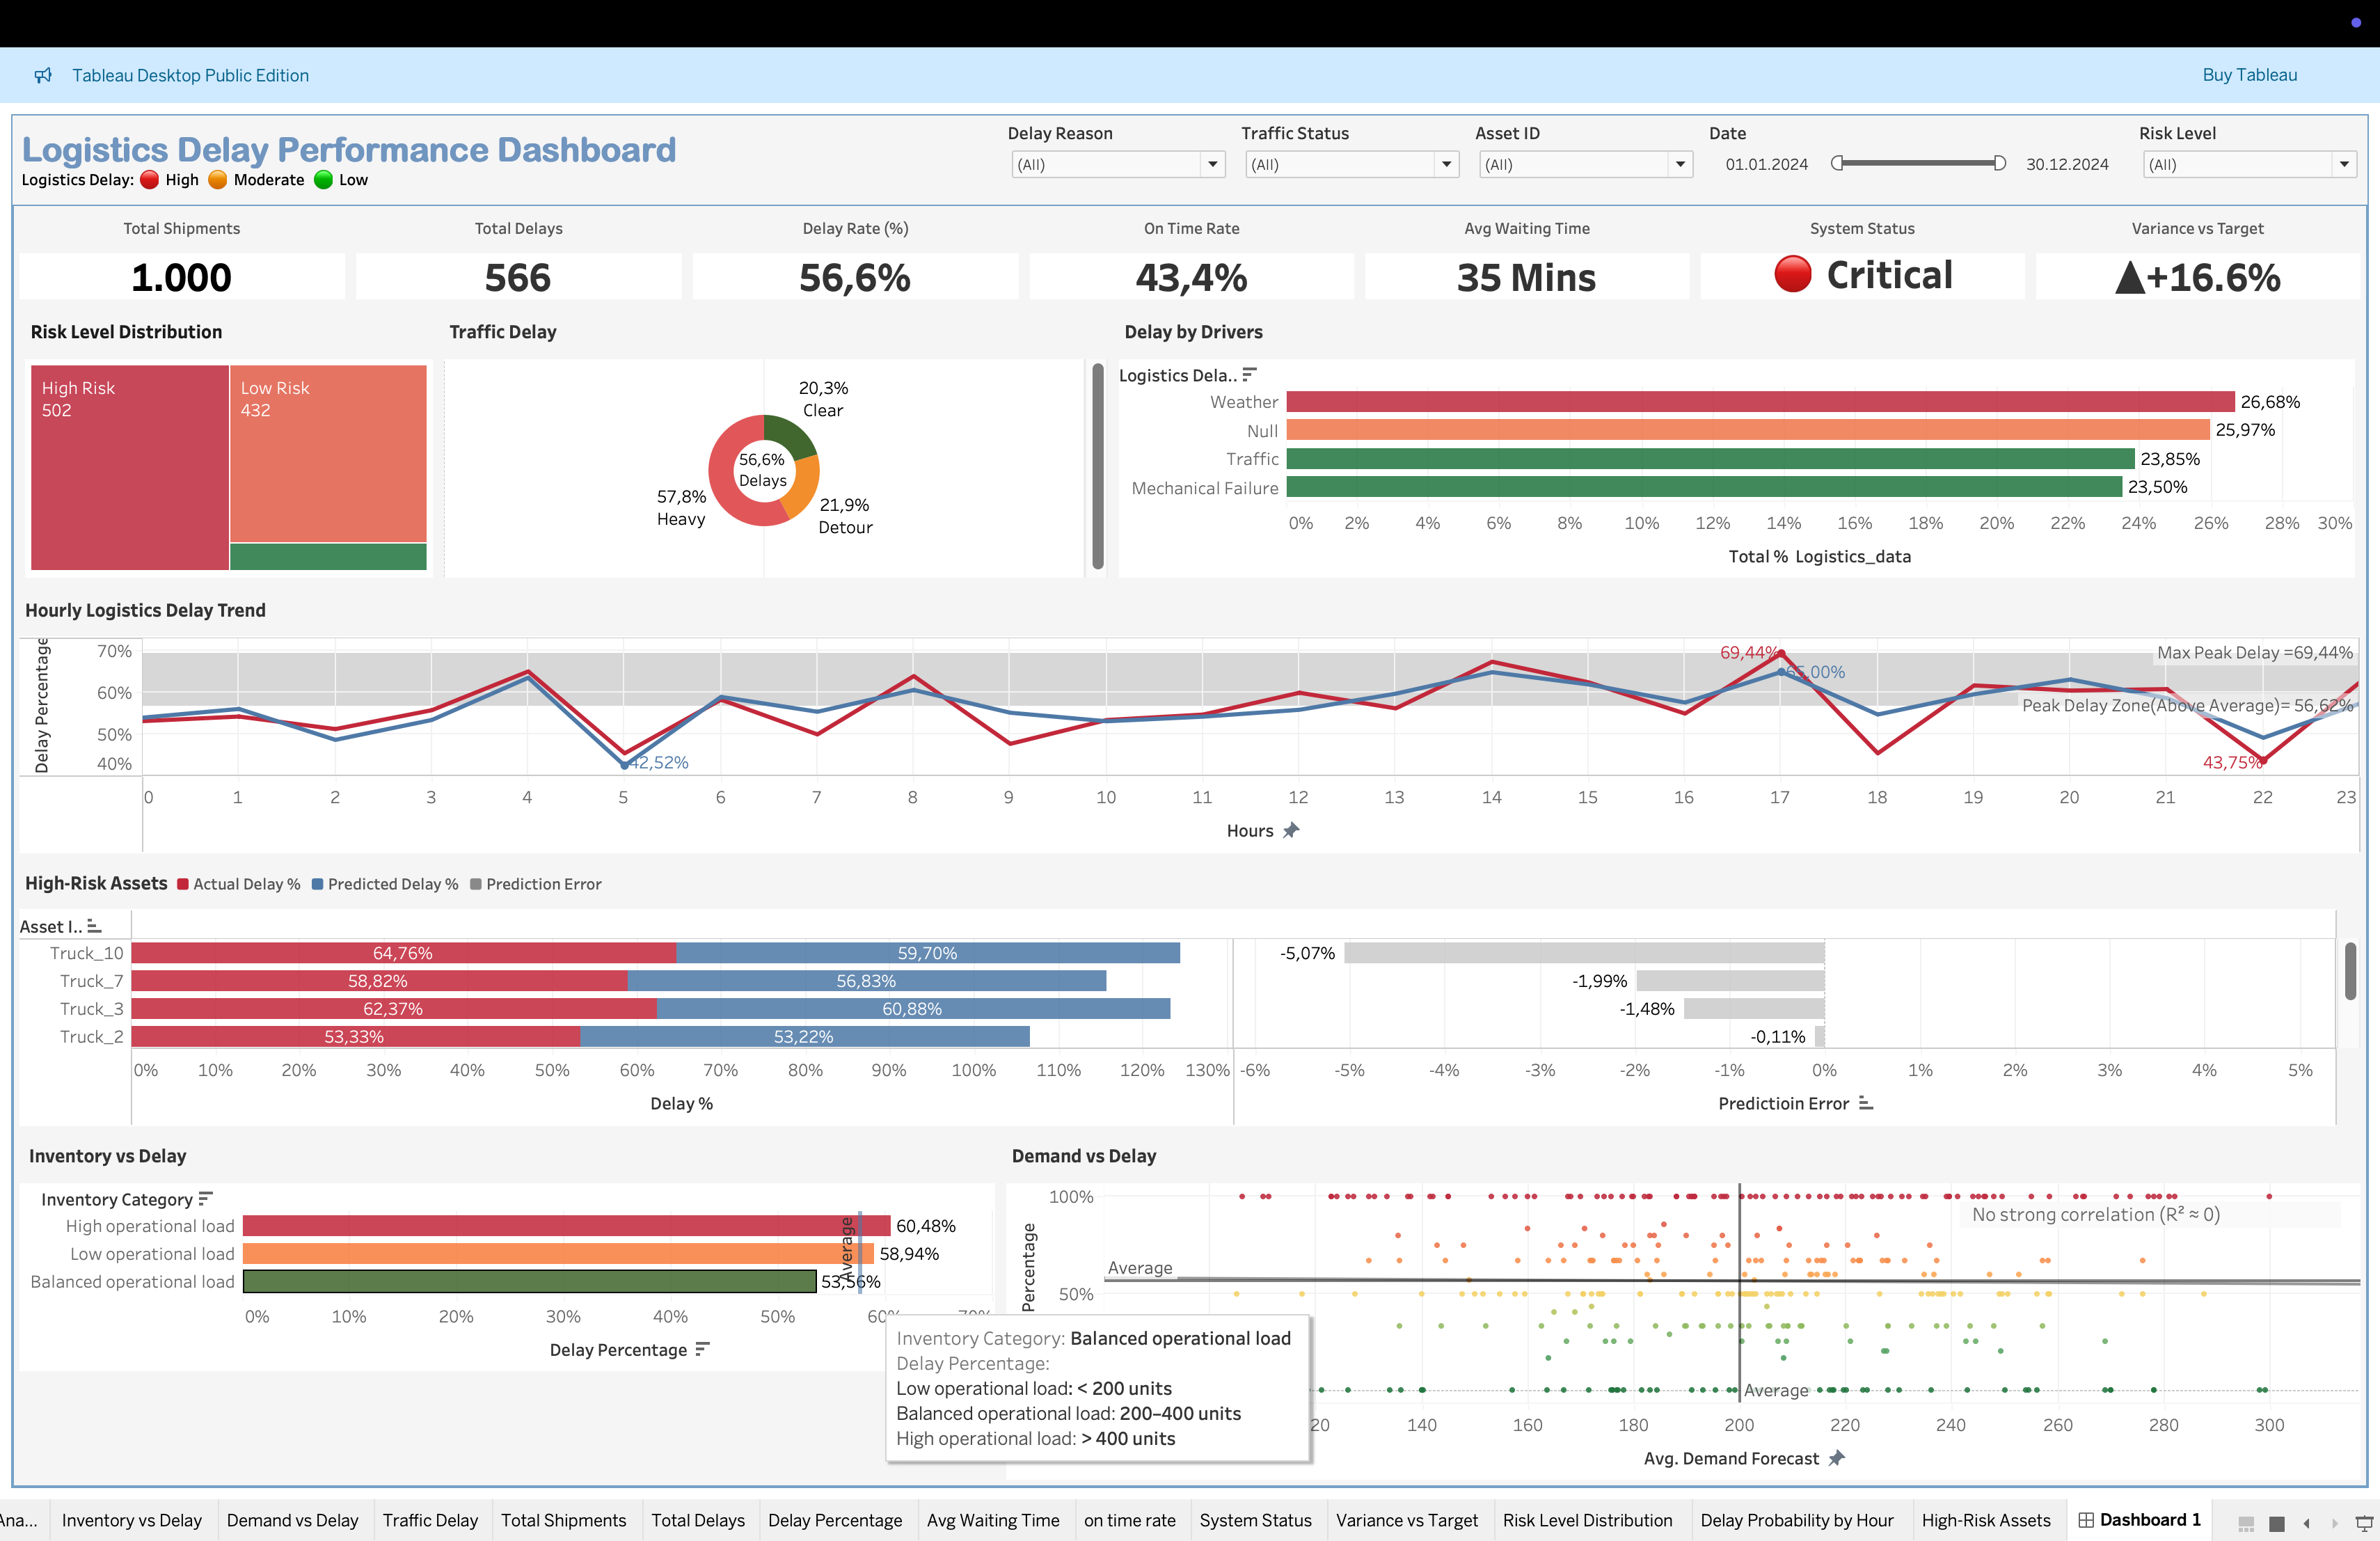

Layout of this report page (visuals, bound fields, positions):
{"tool":"tableau","page":{"name":"Dashboard 1","canvas":[1000,1000],"units":"permille","ordinal":0},"visuals":[{"type":"text","box":[10,9.8,412.2,64.5]},{"type":"filter","title":"Delay by Reason","param":"[federated.1rcc51516o36c713amaad1mzhzw2].[none:Logistics_Delay_Reason:nk]","box":[422.2,9.8,142,64.5]},{"type":"filter","title":"Traffic Delay","param":"[federated.1rcc51516o36c713amaad1mzhzw2].[none:Traffic_Status:nk]","box":[564.1,9.8,142,64.5]},{"type":"filter","title":"Truck Performance & Delay Analysis","param":"[federated.1rcc51516o36c713amaad1mzhzw2].[none:Asset_ID:nk]","box":[706.1,9.8,142,64.5]},{"type":"filter","title":"Demand vs Delay","param":"[federated.1rcc51516o36c713amaad1mzhzw2].[none:Date:qk]","box":[848,9.8,142,64.5]},{"type":"worksheet","title":"Total Shipments","mark":"Automatic","box":[12.5,77.4,140,93.4]},{"type":"worksheet","title":"Total Delays","mark":"Automatic","box":[152.5,77.4,140,93.4]},{"type":"worksheet","title":"Delay Percentage","mark":"Automatic","box":[292.5,77.4,140,93.4]},{"type":"worksheet","title":"on time rate","mark":"Automatic","box":[432.5,77.4,138.8,93.4]},{"type":"worksheet","title":"Avg Waiting Time","mark":"Automatic","box":[571.2,77.4,138.8,93.4]},{"type":"worksheet","title":"System Status","mark":"Automatic","box":[710,77.4,138.8,93.4]},{"type":"worksheet","title":"Variance vs Target","mark":"Automatic","box":[848.8,77.4,138.8,93.4]},{"type":"worksheet","title":"Traffic Delay","mark":"Pie","cols":["Calculation_2363123224894951425","Calculation_2363123224894951425"],"box":[17.5,172.7,841.2,239.6]},{"type":"worksheet","title":"Delay by Reason","mark":"Automatic","rows":["Logistics_Delay_Reason"],"cols":["Logistics_data.csv_26AAF209FF13482EB2E13C5665DE12EE"],"box":[858.8,172.7,123.8,239.6]},{"type":"worksheet","title":"Hourly logistics delay trend","mark":"Automatic","rows":["Logistics_Delay"],"cols":["Hours"],"box":[12.5,414.7,975,211.3]},{"type":"worksheet","title":" Inventory vs Delay","mark":"Automatic","rows":["Calculation_1725512031369474050"],"cols":["Calculation_1725512031369310209"],"box":[12.5,626,975,234.7]},{"type":"worksheet","title":"Truck Performance & Delay Analysis","mark":"Automatic","box":[12.5,860.6,923.8,127.1]},{"type":"worksheet","title":"Demand vs Delay","mark":"Circle","rows":["Calculation_1725512031369310209"],"cols":["Demand_Forecast"],"box":[936.2,860.6,51.2,127.1]}]}

Visuals, with their boxes on the dashboard's canvas, which has no fixed pixel size, in thousandths of its width and height (x1, y1, x2, y2). These are canvas units, not pixel positions in the 2380x1541 screenshot, which may show the page scaled, cropped or inside an application window:
text: [10, 10, 422, 74]
"Delay by Reason" filter: [422, 10, 564, 74]
"Traffic Delay" filter: [564, 10, 706, 74]
"Truck Performance & Delay Analysis" filter: [706, 10, 848, 74]
"Demand vs Delay" filter: [848, 10, 990, 74]
"Total Shipments" worksheet: [12, 77, 152, 171]
"Total Delays" worksheet: [152, 77, 292, 171]
"Delay Percentage" worksheet: [292, 77, 432, 171]
"on time rate" worksheet: [432, 77, 571, 171]
"Avg Waiting Time" worksheet: [571, 77, 710, 171]
"System Status" worksheet: [710, 77, 849, 171]
"Variance vs Target" worksheet: [849, 77, 988, 171]
"Traffic Delay" worksheet (Pie marks): [18, 173, 859, 412]
"Delay by Reason" worksheet: [859, 173, 983, 412]
"Hourly logistics delay trend" worksheet: [12, 415, 988, 626]
" Inventory vs Delay" worksheet: [12, 626, 988, 861]
"Truck Performance & Delay Analysis" worksheet: [12, 861, 936, 988]
"Demand vs Delay" worksheet (Circle marks): [936, 861, 987, 988]
